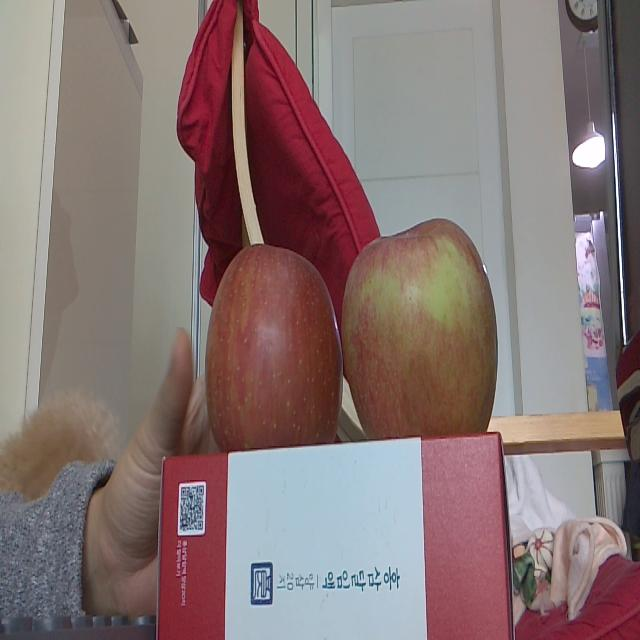apple: (344, 219, 502, 436), (202, 241, 344, 449)
